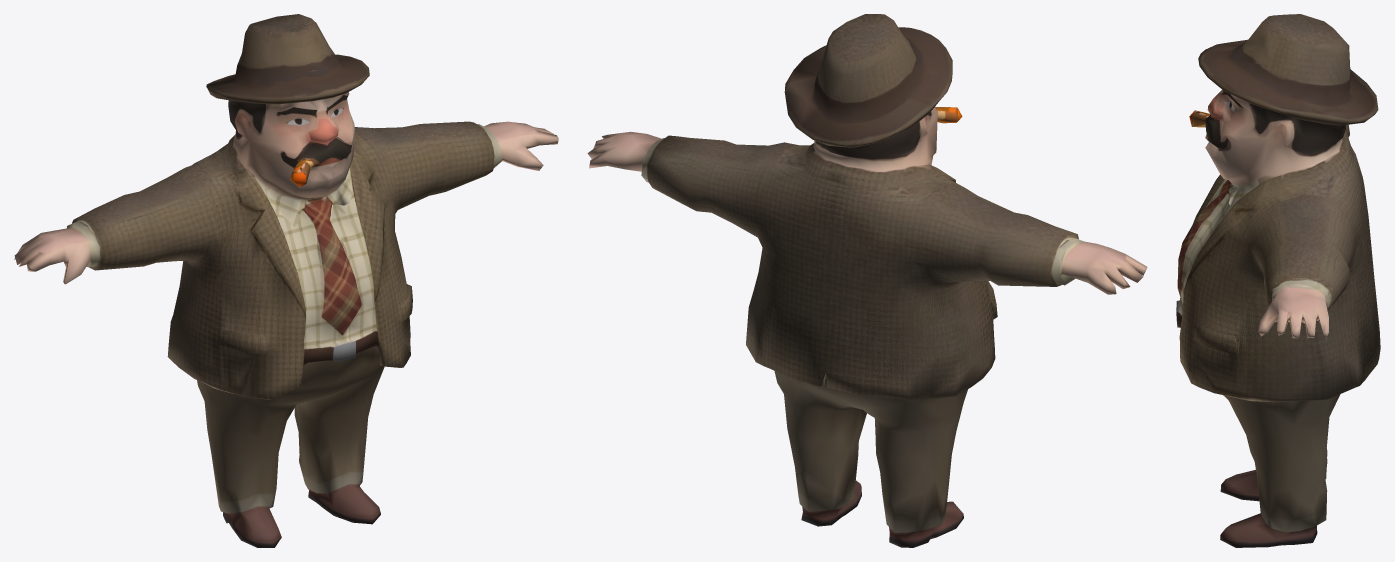
The model's file is ronnie_ultra.glb.
The picture shows the model from 3 angles, left to right: view 1: azimuth 30°, elevation 25°; view 2: azimuth 150°, elevation 25°; view 3: azimuth 270°, elevation 25°; orthographic projection. The views are drawn at different scales.
Parts seen in each view (by area): view 1: Mesh_0; view 2: Mesh_0; view 3: Mesh_0.
Boxes of the visible parts, bbox=[...] form: Mesh_0: bbox=[14, 14, 558, 547]; Mesh_0: bbox=[587, 14, 1147, 547]; Mesh_0: bbox=[1176, 14, 1380, 547].
Size of the model in its own units: 1.83 by 1.6 by 0.6.
Materials: 1 (1 with a texture image).
